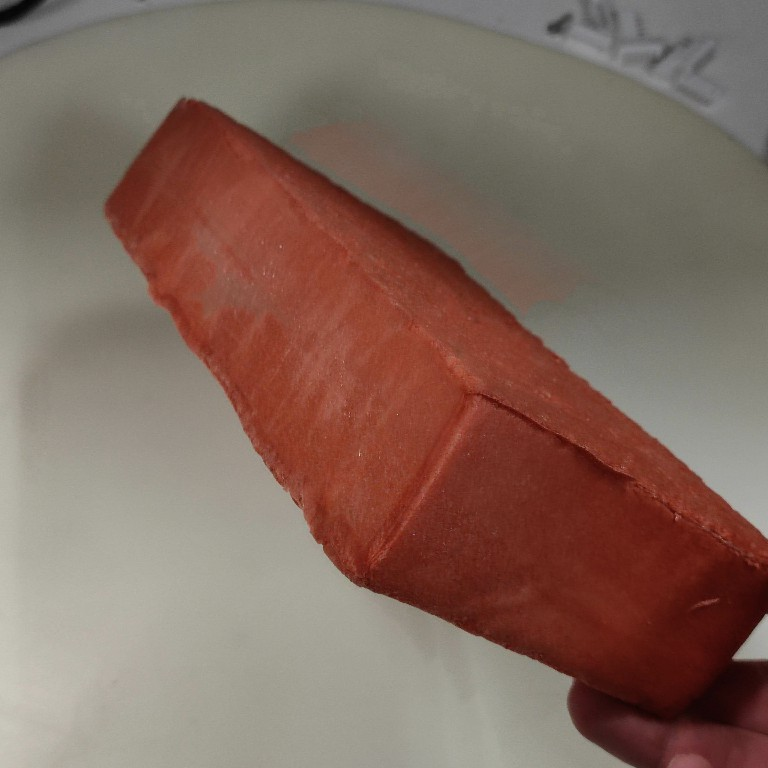brick: (99, 93, 768, 717)
